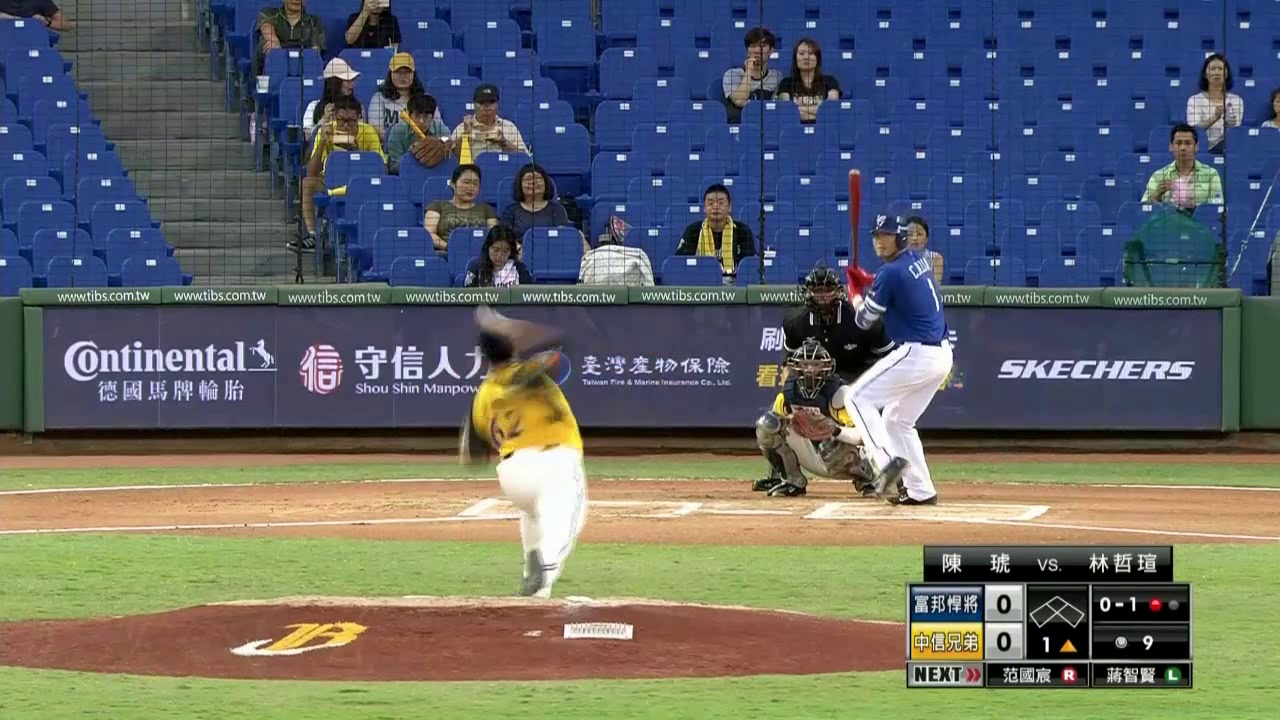ball: (479, 306, 491, 320)
base: (1027, 585, 1087, 629)
bat: (847, 170, 861, 273)
out: (1144, 593, 1182, 615)
score1: (983, 588, 1021, 621)
score2: (988, 627, 1021, 657)
session: (1028, 636, 1082, 656)
strikeball: (1094, 590, 1140, 621)
total: (1103, 627, 1161, 657)
